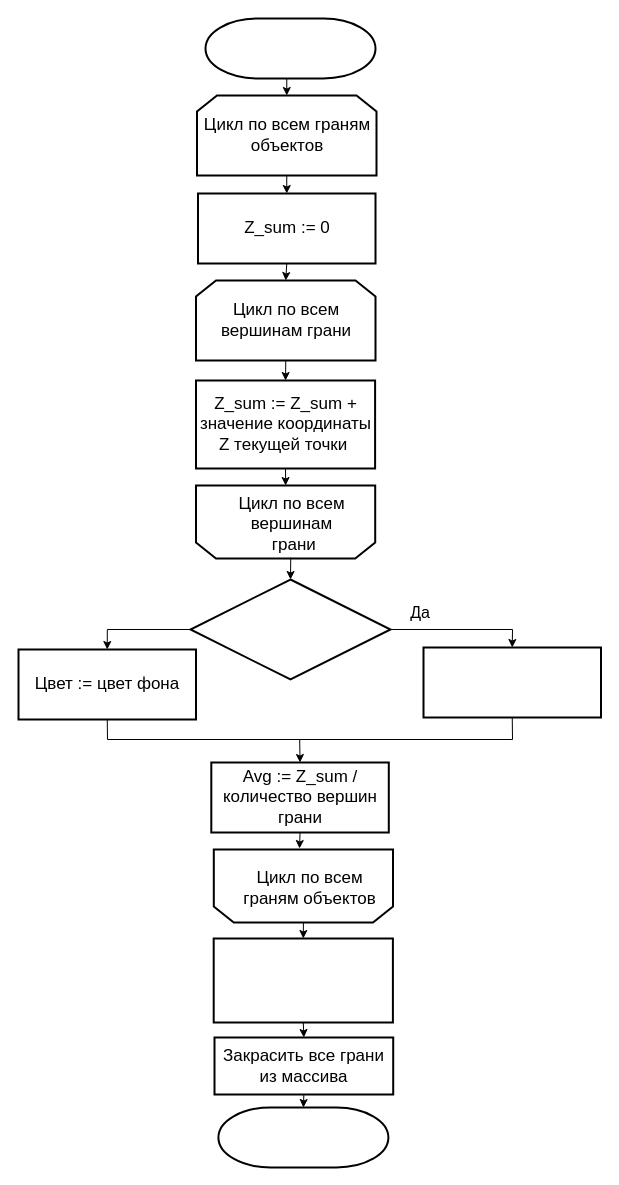
Image size: 619x1185. Some labels were removed from this diagram. The centre of each missing label's shape, as x and y in pixels:
"Вычислить цвет грани" belongs at point 512,682.
"Количество источников света > 0?" belongs at point 290,629.
"Конец" belongs at point 303,1137.
"Начало" belongs at point 290,48.
"Отсортировать массив средних значений Z каждой грани" belongs at point 302,980.
